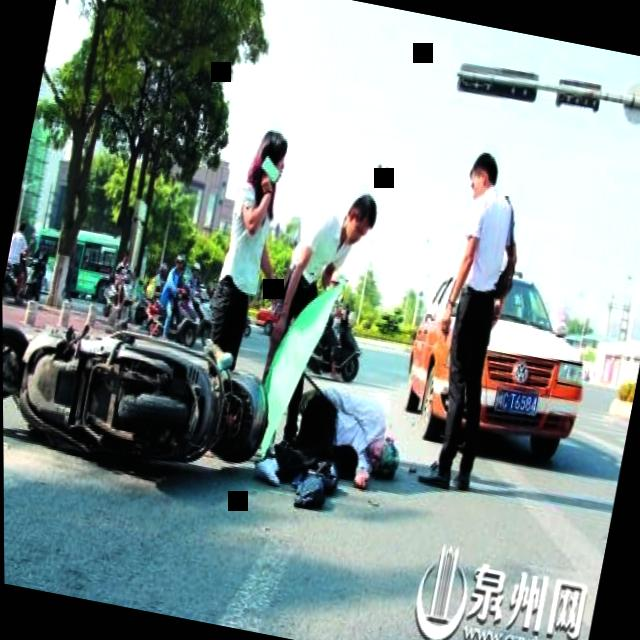Fall-Detected: (267, 363, 424, 505)
